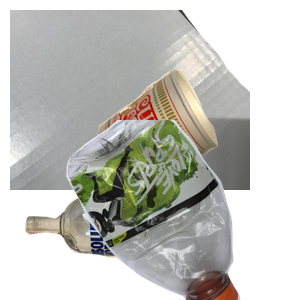cardboard: (10, 10, 250, 190)
glass: (22, 192, 234, 300)
plastic: (64, 120, 300, 300)
trash: (95, 67, 300, 238)
